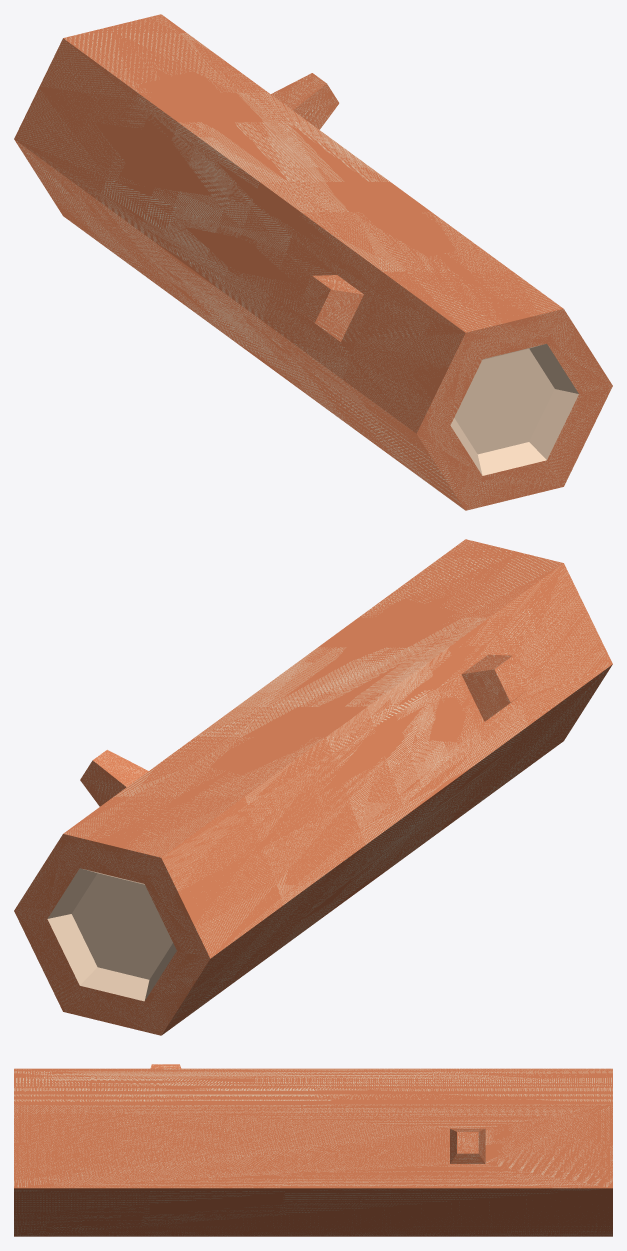
The model's file is log.dae.
3 views of the same model, one above another, from view 1: azimuth 30°, elevation 25°; view 2: azimuth 150°, elevation 25°; view 3: azimuth 270°, elevation 25° (orthographic). The views are drawn at different scales.
Visible parts, largest first — view 1: log; view 2: log; view 3: log.
Part boxes in pixels (left/top/right/bottom): log: left=14, top=14, right=612, bottom=510; log: left=14, top=539, right=612, bottom=1035; log: left=14, top=1064, right=612, bottom=1236.
Size of the model in its own units: 0.234 by 0.1732 by 0.71.
